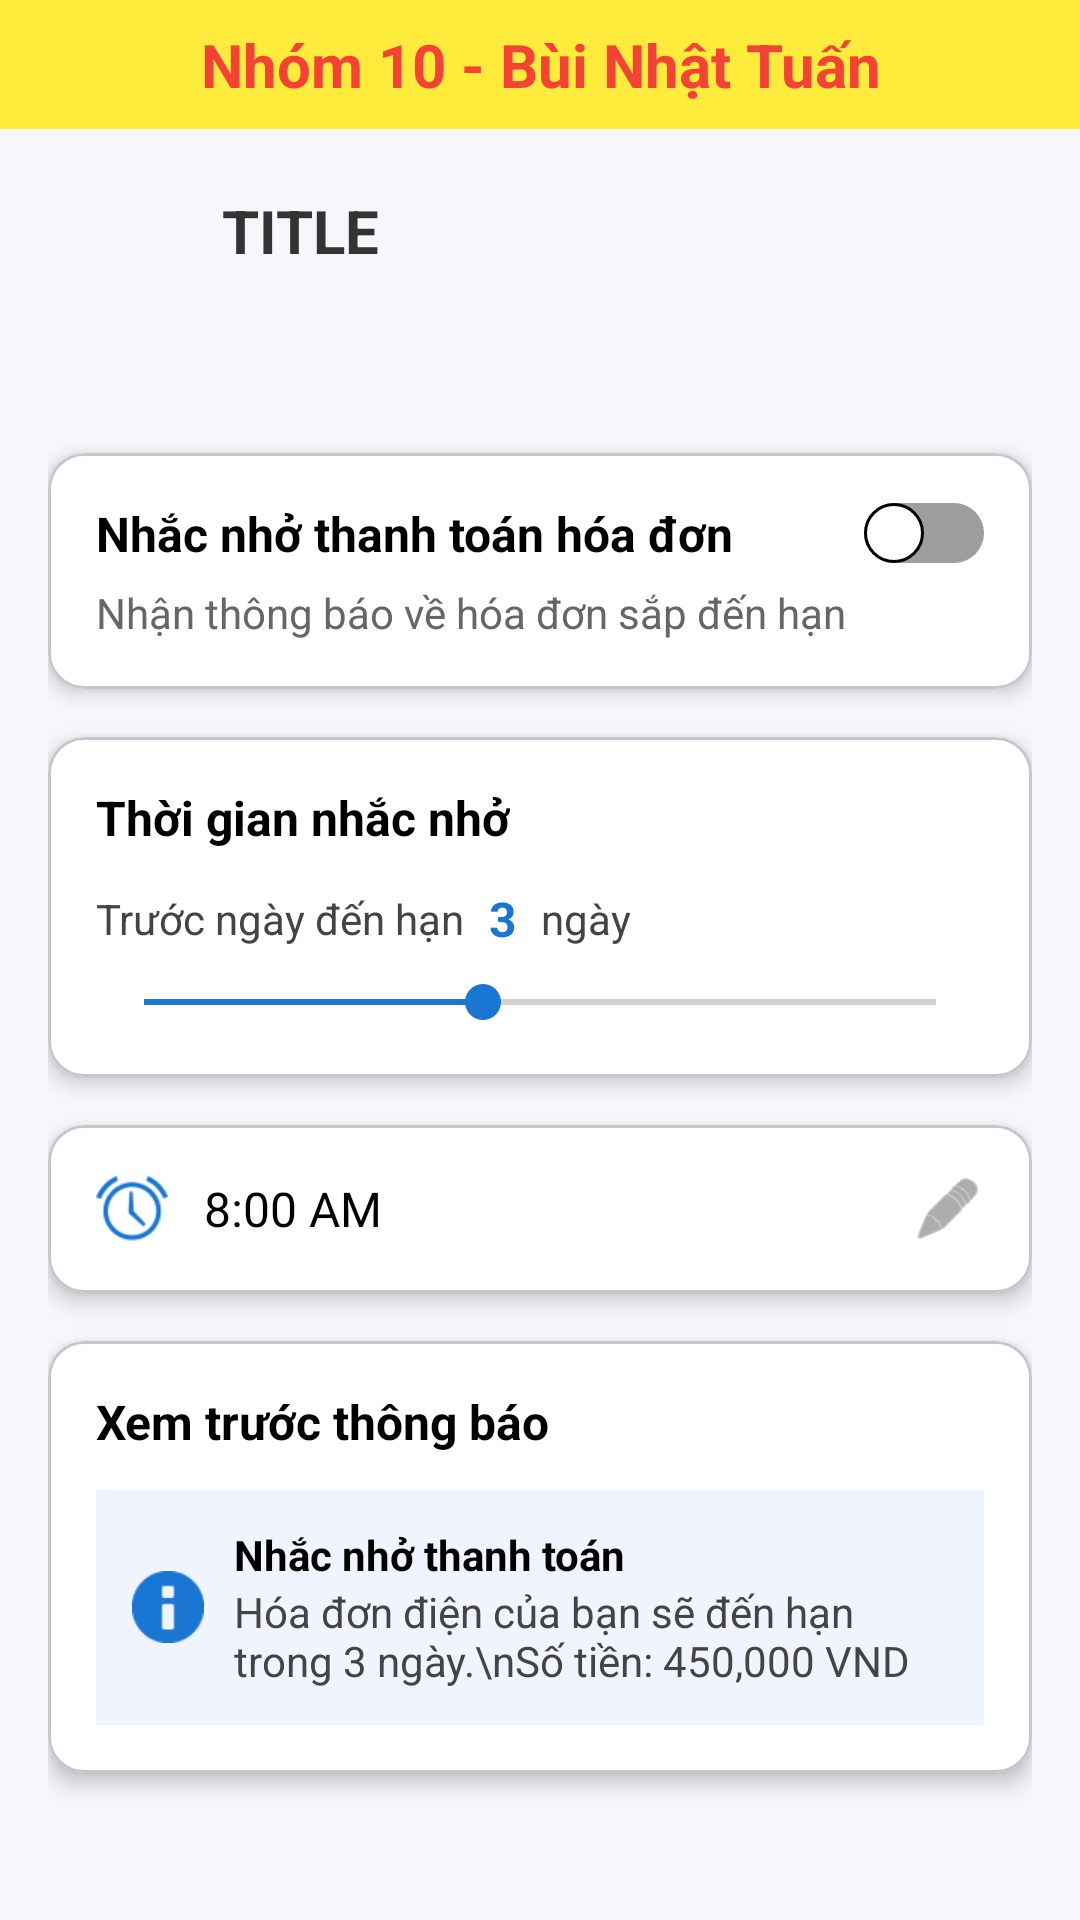

Icon bounding boxes for this 1080 x 1920 phone screenshot, format detection(x1, y1, x2, y2):
edit: detection(917, 1178, 978, 1239)
info: detection(132, 1571, 204, 1643)
lock idle alarm: detection(96, 1176, 168, 1241)
